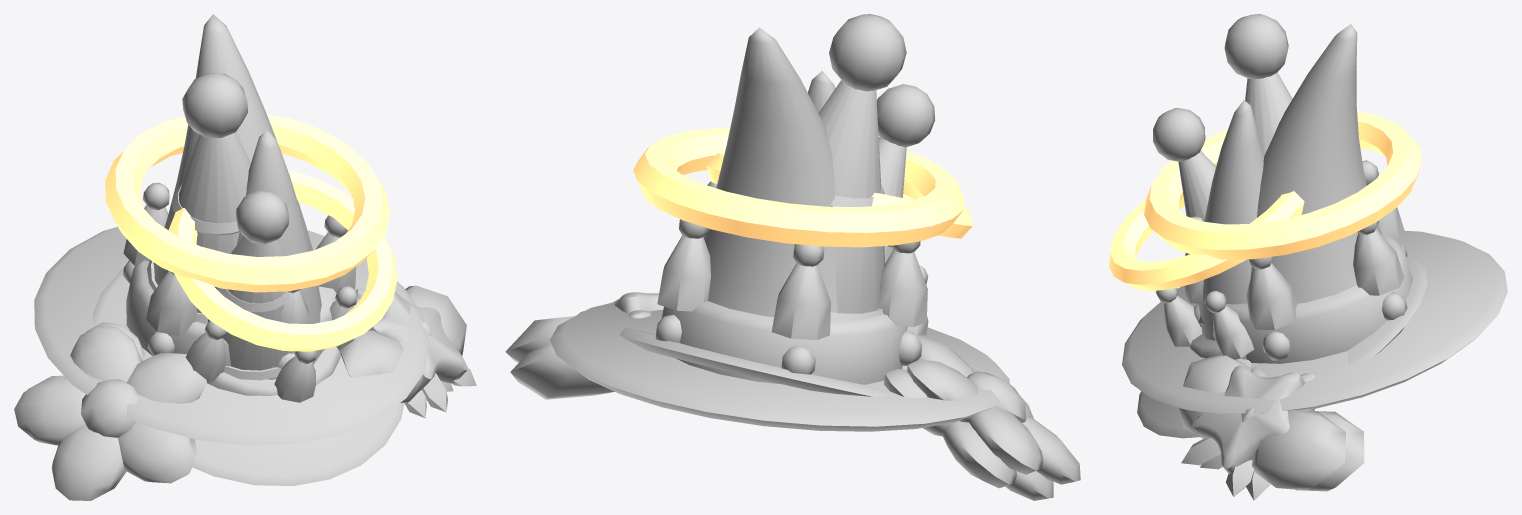
The model's file is ani_pet_hats.glb.
3 renders of one model, left to right at view 1: azimuth 30°, elevation 25°; view 2: azimuth 150°, elevation 25°; view 3: azimuth 270°, elevation 25°, orthographic. The views are drawn at different scales.
Visible parts, largest first — view 1: INST_ani_pet_hats_witch_cat, INST_ani_pet_hats_flower_cat, INST_ani_pet_hats_halo_cat, INST_ani_pet_hats_witch_bunny, INST_ani_pet_hats_halo_bunny, INST_ani_pet_hats_party_cat, INST_ani_pet_hats_crown_cat, INST_ani_pet_hats_party_bunny, INST_ani_pet_hats_crown_bunny, INST_ani_pet_hats_bow_cat, INST_ani_pet_hats_star_cat, INST_ani_pet_hats_flower_bunny; view 2: INST_ani_pet_hats_witch_cat, INST_ani_pet_hats_crown_cat, INST_ani_pet_hats_halo_cat, INST_ani_pet_hats_party_cat, INST_ani_pet_hats_flower_cat, INST_ani_pet_hats_witch_bunny, INST_ani_pet_hats_flower_bunny, INST_ani_pet_hats_party_bunny, INST_ani_pet_hats_bow_bunny, INST_ani_pet_hats_bow_cat, INST_ani_pet_hats_halo_bunny, INST_ani_pet_hats_star_cat; view 3: INST_ani_pet_hats_witch_cat, INST_ani_pet_hats_crown_cat, INST_ani_pet_hats_halo_cat, INST_ani_pet_hats_witch_bunny, INST_ani_pet_hats_bow_cat, INST_ani_pet_hats_halo_bunny, INST_ani_pet_hats_party_cat, INST_ani_pet_hats_star_cat, INST_ani_pet_hats_party_bunny, INST_ani_pet_hats_crown_bunny, INST_ani_pet_hats_bow_bunny.
Boxes of the visible parts, x1,y1,x2,y2 form: INST_ani_pet_hats_witch_cat: (34,14,429,445); INST_ani_pet_hats_flower_cat: (14,325,206,500); INST_ani_pet_hats_halo_cat: (105,114,390,292); INST_ani_pet_hats_witch_bunny: (92,130,404,486); INST_ani_pet_hats_halo_bunny: (168,170,397,351); INST_ani_pet_hats_party_cat: (147,73,250,324); INST_ani_pet_hats_crown_cat: (123,182,356,369); INST_ani_pet_hats_party_bunny: (208,190,289,380); INST_ani_pet_hats_crown_bunny: (185,286,357,402); INST_ani_pet_hats_bow_cat: (340,285,476,412); INST_ani_pet_hats_star_cat: (368,292,467,391); INST_ani_pet_hats_flower_bunny: (27,322,196,500); INST_ani_pet_hats_witch_cat: (550,27,1009,431); INST_ani_pet_hats_crown_cat: (655,181,927,384); INST_ani_pet_hats_halo_cat: (633,127,964,247); INST_ani_pet_hats_party_cat: (818,14,906,321); INST_ani_pet_hats_flower_cat: (907,335,1080,484); INST_ani_pet_hats_witch_bunny: (619,71,894,396); INST_ani_pet_hats_flower_bunny: (884,365,1053,500); INST_ani_pet_hats_party_bunny: (877,84,934,262); INST_ani_pet_hats_bow_bunny: (510,342,614,399); INST_ani_pet_hats_bow_cat: (505,316,573,362); INST_ani_pet_hats_halo_bunny: (706,153,972,238); INST_ani_pet_hats_star_cat: (578,292,663,314); INST_ani_pet_hats_witch_cat: (1122,24,1507,414); INST_ani_pet_hats_crown_cat: (1184,160,1412,363); INST_ani_pet_hats_halo_cat: (1144,111,1422,259); INST_ani_pet_hats_witch_bunny: (1137,100,1427,438); INST_ani_pet_hats_bow_cat: (1178,354,1345,496); INST_ani_pet_hats_halo_bunny: (1109,191,1304,290); INST_ani_pet_hats_party_cat: (1224,14,1292,155); INST_ani_pet_hats_star_cat: (1192,365,1305,474); INST_ani_pet_hats_party_bunny: (1153,108,1216,324); INST_ani_pet_hats_crown_bunny: (1155,288,1254,362); INST_ani_pet_hats_bow_bunny: (1200,358,1364,500).
Bounding box in the file's own units: 0.245 × 0.2098 × 0.1918.
